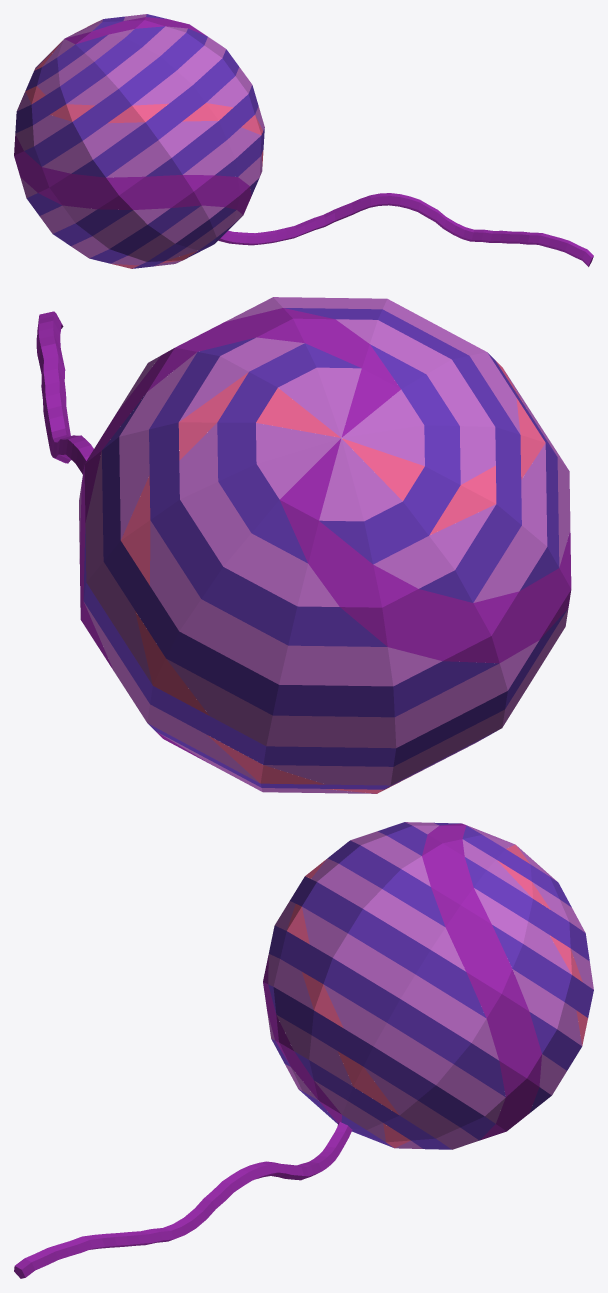
The model's file is yarn.glb.
The picture shows the model from 3 angles, top to bottom: view 1: azimuth 30°, elevation 25°; view 2: azimuth 150°, elevation 25°; view 3: azimuth 270°, elevation 25°; orthographic projection. The views are drawn at different scales.
Parts seen in each view (by area): view 1: group1970492613, group1337943959; view 2: group1970492613, group1337943959; view 3: group1970492613, group1337943959.
Boxes of the visible parts, x1,y1,x2,y2 form: group1970492613: (14, 14, 264, 268); group1337943959: (218, 193, 593, 266); group1970492613: (79, 297, 571, 793); group1337943959: (36, 311, 93, 474); group1970492613: (263, 822, 593, 1149); group1337943959: (14, 1122, 352, 1278).
Size of the model in its own units: 0.2223 by 0.12 by 0.2112.
